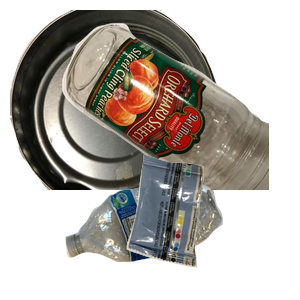glass: (60, 21, 300, 201)
metal: (10, 10, 221, 190)
plastic: (63, 170, 278, 300)
trash: (124, 152, 300, 300)
